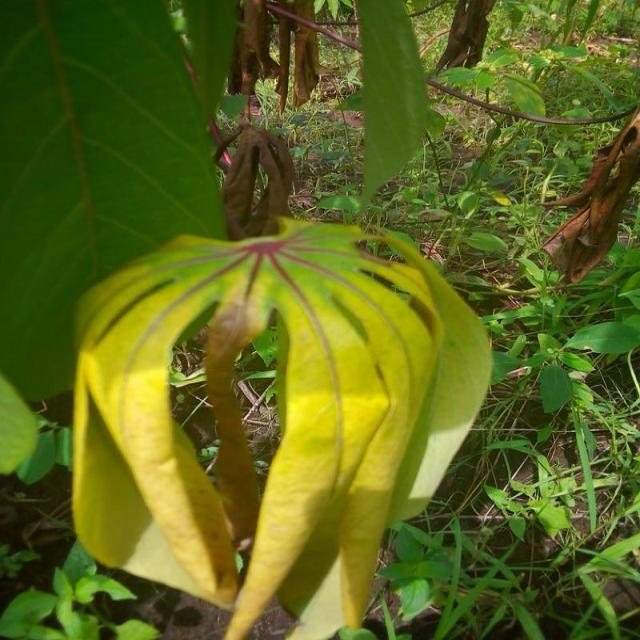cassava leaf: (70, 212, 493, 638)
